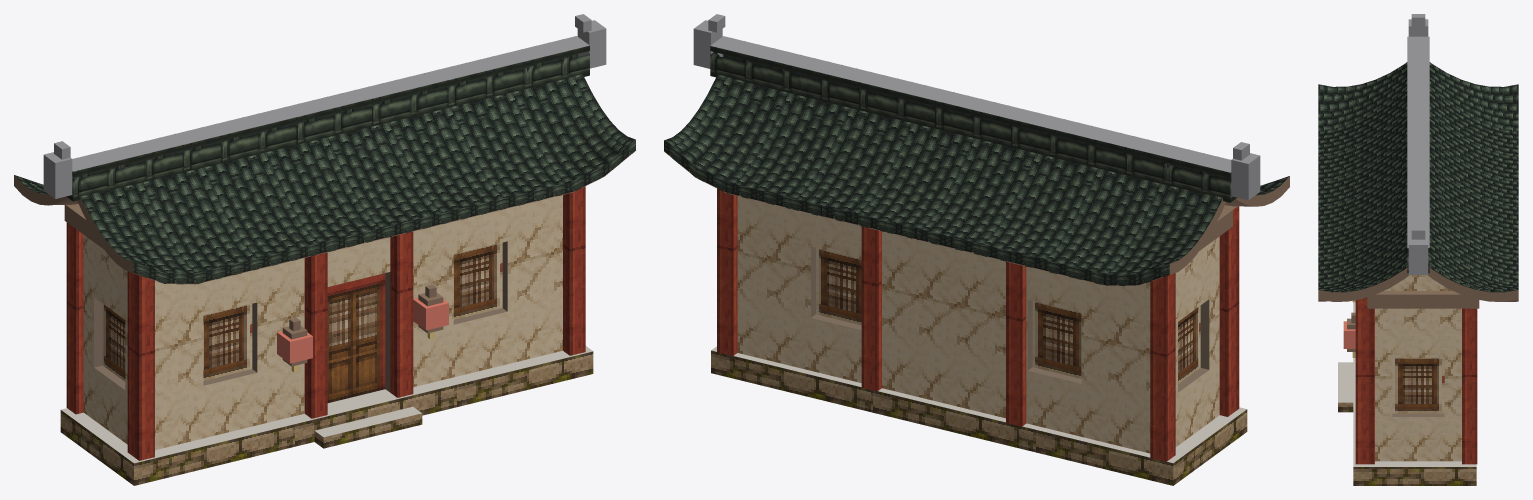
File: b_shop_green.glb
3 renders of one model, left to right at view 1: azimuth 30°, elevation 25°; view 2: azimuth 150°, elevation 25°; view 3: azimuth 270°, elevation 25°, orthographic. The views are drawn at different scales.
Visible parts, largest first — view 1: roof, plaster, post, ridge, stone, ridgeend, win, door, eave, stonetop, reveal, wood (+1 smaller); view 2: plaster, roof, post, ridge, stone, ridgeend, win, eave, stonetop, reveal, wood; view 3: roof, plaster, ridgeend, post, wood, win, stone, stonetop, lantern.
Part boxes in pixels (box(x1,y1,x2,y2)): roof: box(14, 74, 635, 272); plaster: box(83, 195, 562, 449); post: box(66, 186, 585, 460); ridge: box(66, 45, 589, 201); stone: box(60, 351, 593, 485); ridgeend: box(43, 14, 606, 198); win: box(102, 242, 502, 381); door: box(327, 273, 385, 402); eave: box(133, 140, 635, 284); stonetop: box(61, 346, 592, 463); reveal: box(94, 241, 507, 392); wood: box(14, 175, 443, 366); plaster: box(737, 196, 1219, 453); roof: box(664, 74, 1289, 274); post: box(717, 188, 1239, 461); ridge: box(710, 46, 1236, 202); stone: box(711, 350, 1247, 485); ridgeend: box(693, 14, 1260, 200); win: box(816, 248, 1200, 383); eave: box(664, 140, 1169, 285); stonetop: box(711, 346, 1246, 462); reveal: box(811, 247, 1209, 392); wood: box(664, 130, 1289, 274); roof: box(1318, 62, 1518, 292); plaster: box(1375, 275, 1461, 461); ridgeend: box(1407, 14, 1429, 274); post: box(1355, 300, 1477, 464); wood: box(1318, 268, 1518, 351); win: box(1392, 358, 1444, 413); stone: box(1338, 402, 1476, 485); stonetop: box(1338, 302, 1476, 466); lantern: box(1343, 321, 1355, 348).
Size of the model in its own units: 76.8 by 42.66 by 28.78.
Materials: 16 (9 with a texture image).
